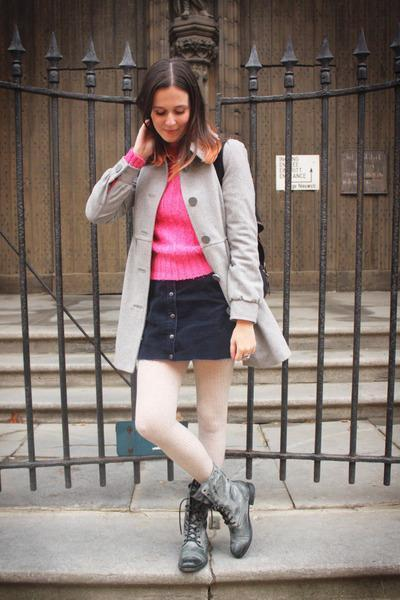jacket: (85, 124, 299, 376)
shirt: (152, 153, 213, 279)
shoe: (168, 468, 255, 573)
skirt: (137, 272, 236, 361)
